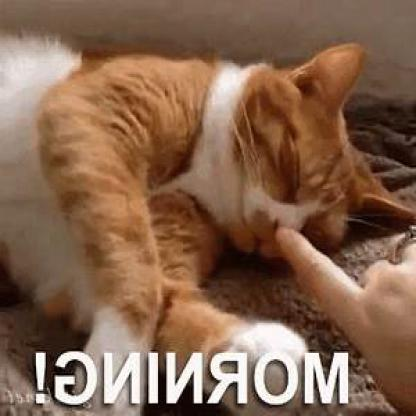cat: (1, 44, 388, 252)
